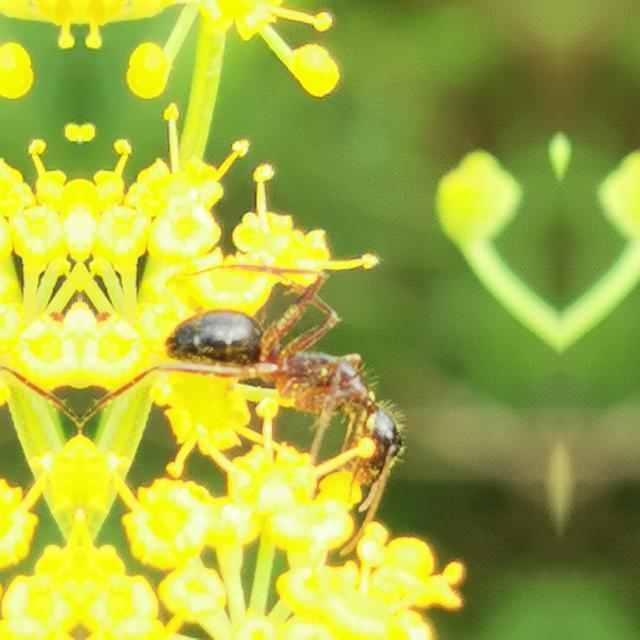Camponotus: (140, 262, 428, 510)
